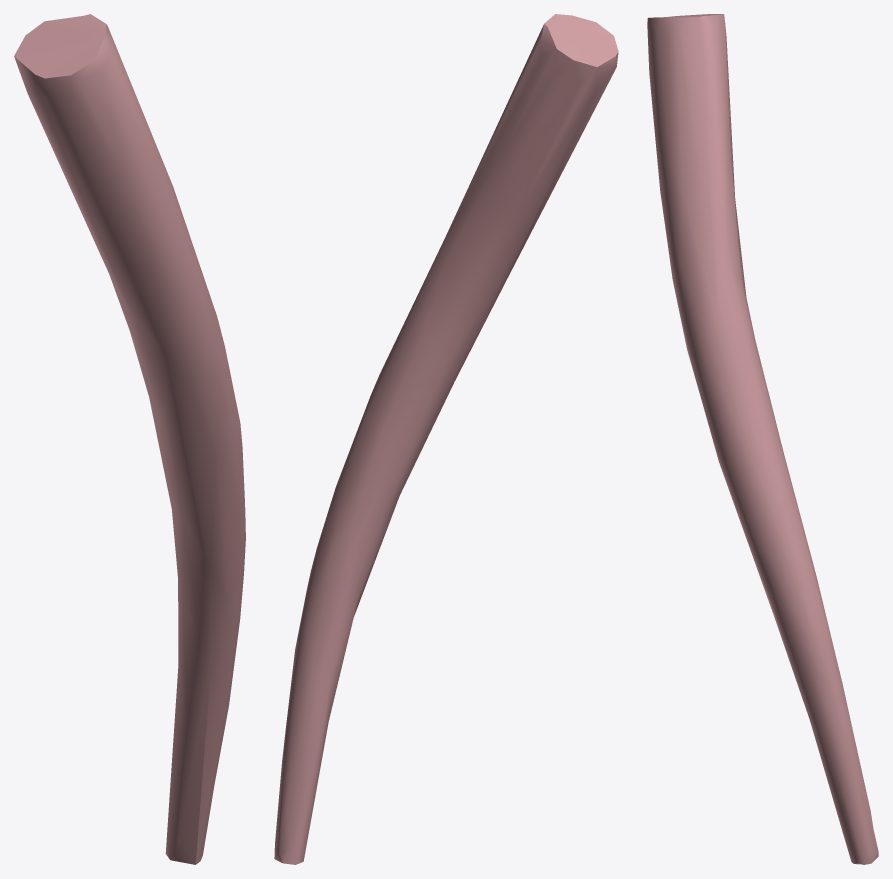
File: fma68232_fj6511.glb
The picture shows the model from 3 angles, left to right: view 1: azimuth 30°, elevation 25°; view 2: azimuth 150°, elevation 25°; view 3: azimuth 270°, elevation 25°; orthographic projection. The views are drawn at different scales.
Parts seen in each view (by area): view 1: FMA68232_FJ6511; view 2: FMA68232_FJ6511; view 3: FMA68232_FJ6511.
Part boxes in pixels (x1,y1,x2,y2): FMA68232_FJ6511: [14, 14, 245, 864]; FMA68232_FJ6511: [274, 14, 618, 864]; FMA68232_FJ6511: [647, 14, 878, 864].
Bounding box in the file's own units: 0.018 × 0.0577 × 0.0158.
